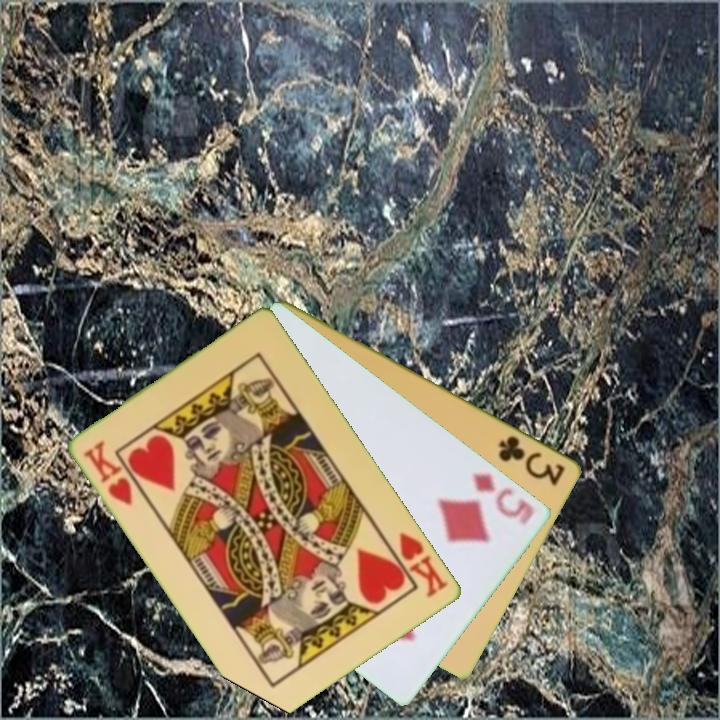3c: (495, 432, 568, 488)
5d: (469, 469, 538, 528)
Kh: (382, 528, 452, 601), (80, 437, 137, 509)
